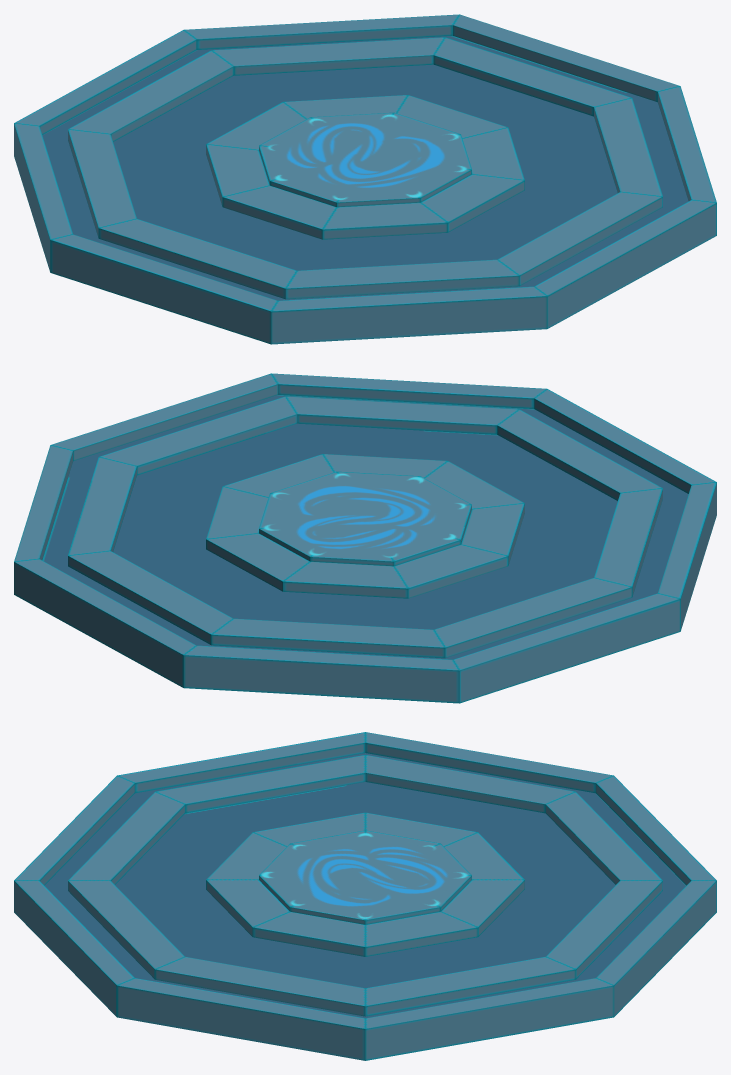
Rendered from A3_Platform.fbx.
The picture shows the model from 3 angles, top to bottom: view 1: azimuth 30°, elevation 25°; view 2: azimuth 150°, elevation 25°; view 3: azimuth 270°, elevation 25°; orthographic projection. The views are drawn at different scales.
Parts seen in each view (by area): view 1: A3_Platform; view 2: A3_Platform; view 3: A3_Platform.
Part boxes in pixels (x1,y1,x2,y2): A3_Platform: (14,14,716,344); A3_Platform: (14,373,716,703); A3_Platform: (14,732,716,1060).
Bounding box in the file's own units: 400 × 23.27 × 400.
1 material, 1 textured.
